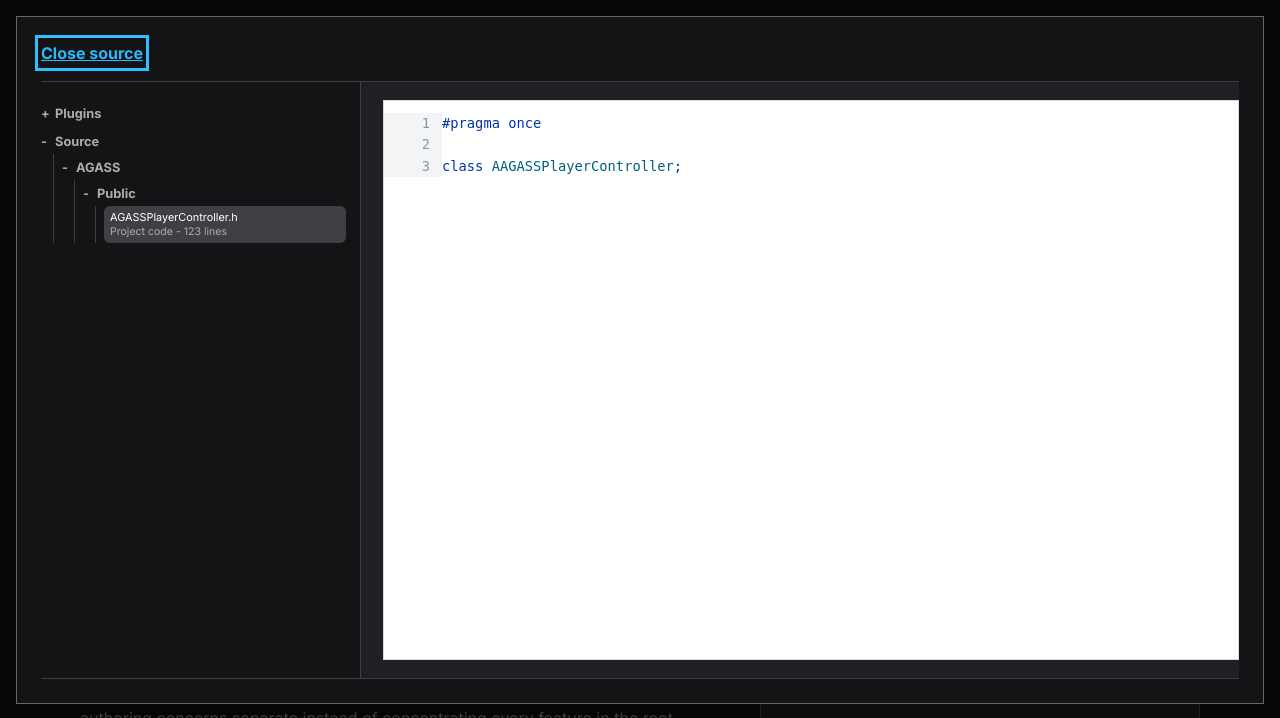
it: App routing › restores background accessibility and focuses the source action after closing
This screenshot has width=1280, height=718.
Click the link "Close source" at x=92, y=53, box [41,41,143,65]
(page scrolled)
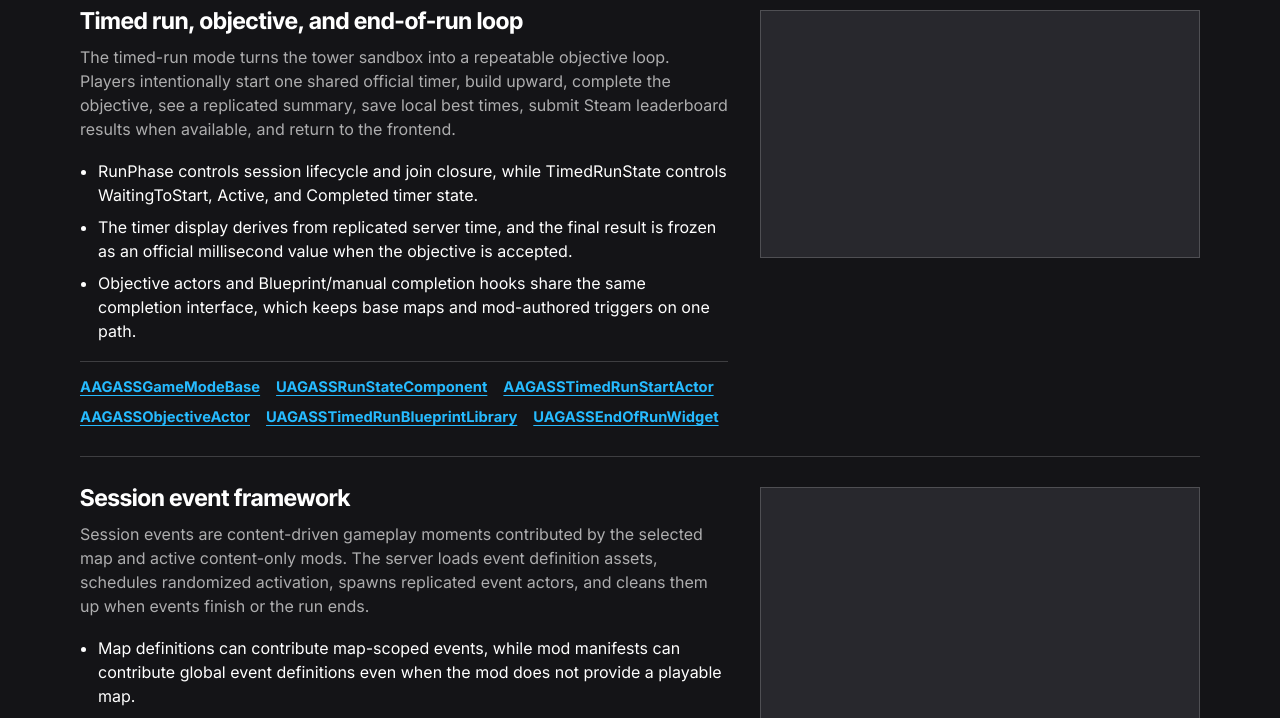
Expected: the dialog is gone
